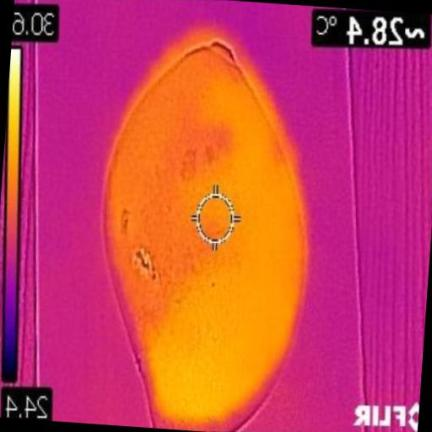mango: (106, 43, 306, 429)
